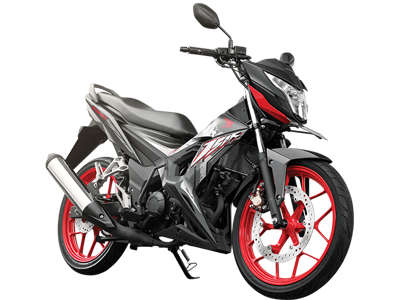motorcycle: (43, 2, 354, 300)
